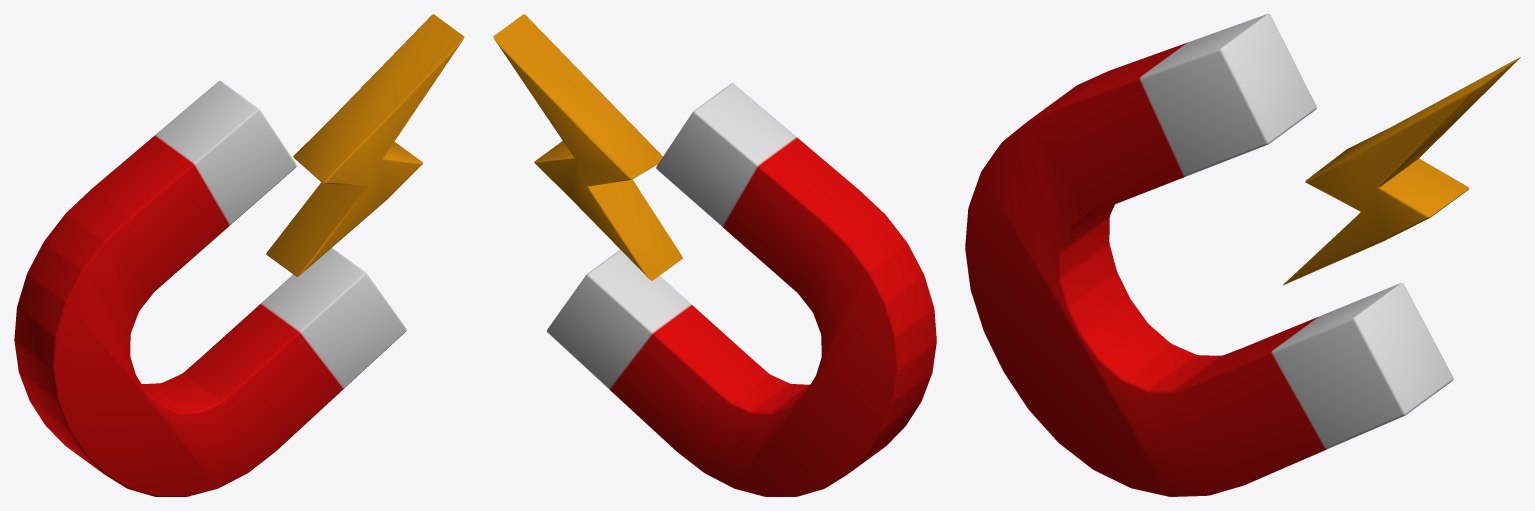
The model's file is magnet.fbx.
3 views of the same model, side by side, from view 1: azimuth 30°, elevation 25°; view 2: azimuth 150°, elevation 25°; view 3: azimuth 330°, elevation 25° (orthographic). The views are drawn at different scales.
Parts seen in each view (by area): view 1: normal2; view 2: normal2; view 3: normal2.
Boxes of the visible parts, x1,y1,x2,y2 form: normal2: [14, 14, 464, 496]; normal2: [493, 14, 936, 496]; normal2: [965, 14, 1520, 496].
Bounding box in the file's own units: 1 × 0.9031 × 0.1672.
